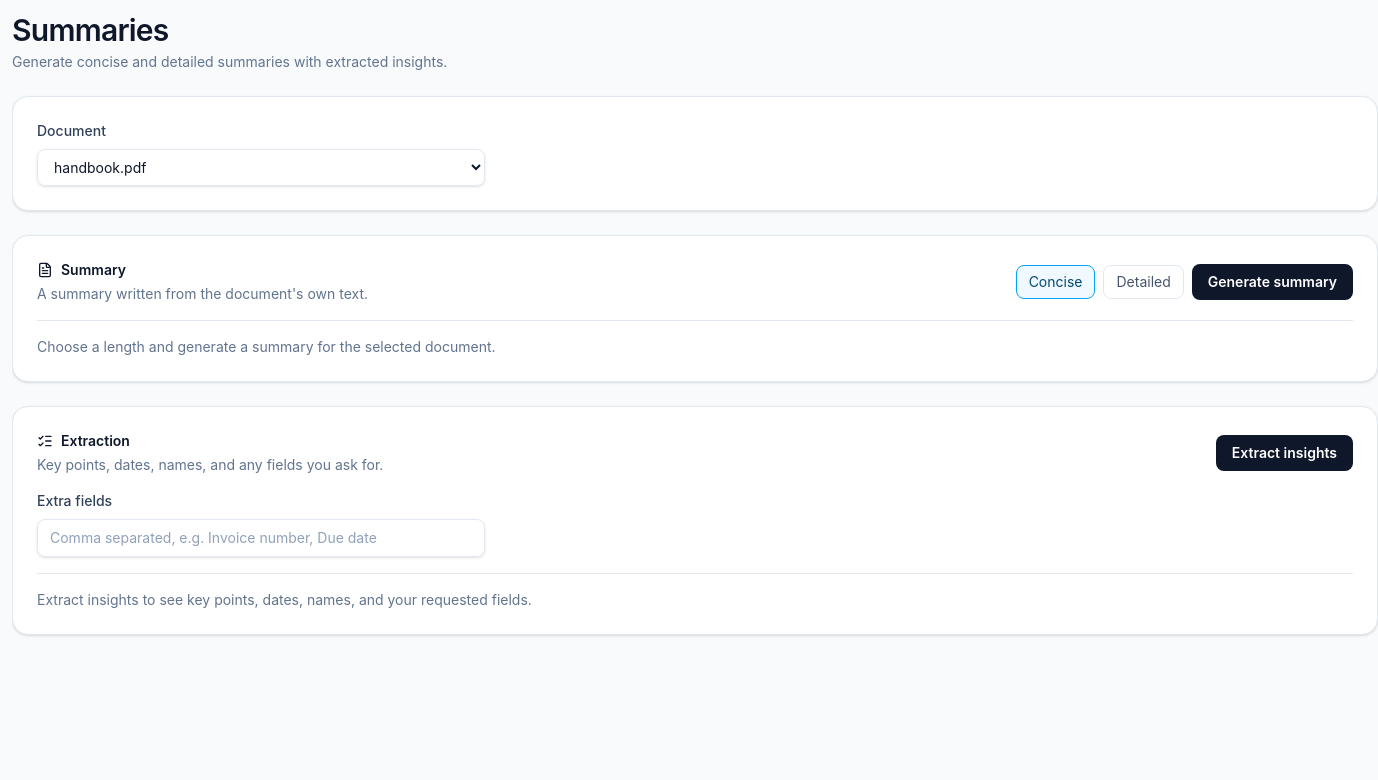
Test: SummariesPage › surfaces backend errors from a failed summary
Click the button "Generate summary". click: (1272, 282)
box: 1192,264 -> 1353,300
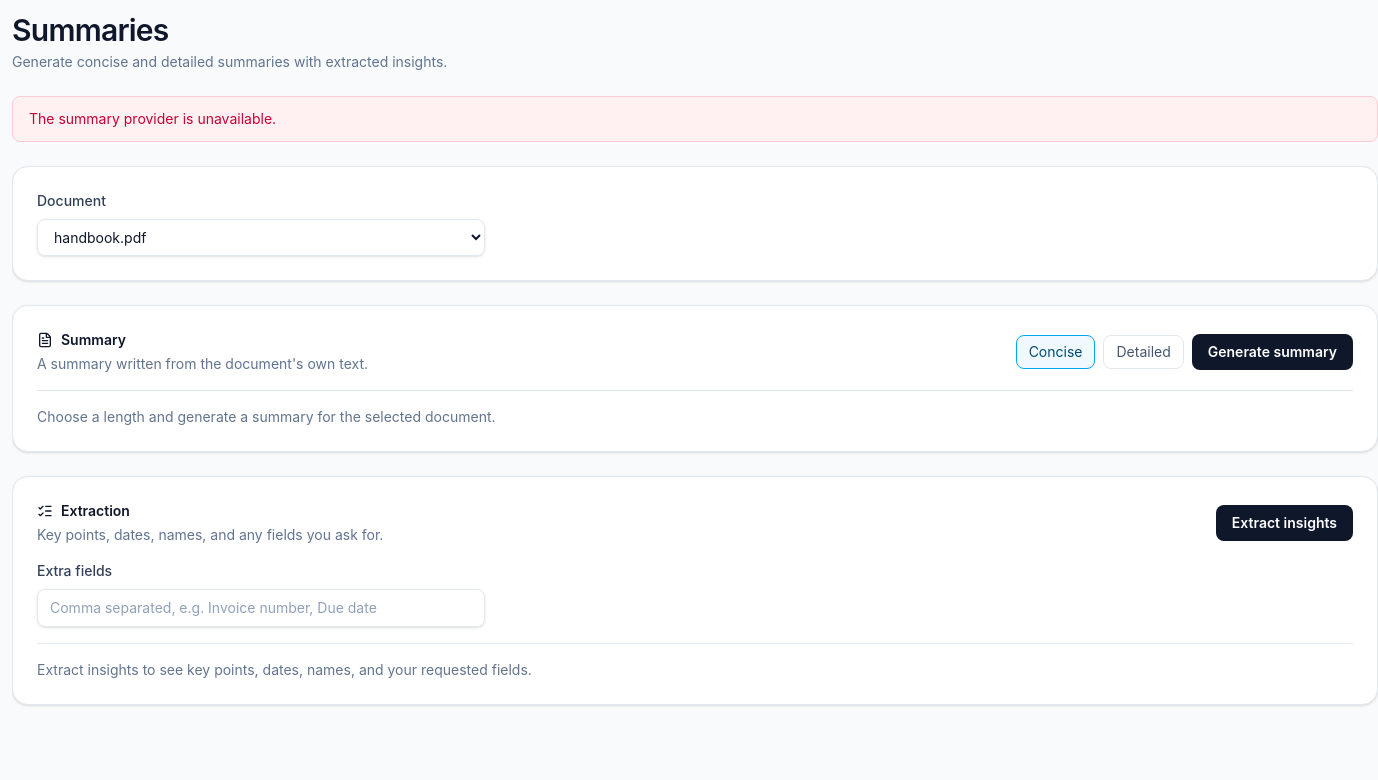
Now the message reads "The summary provider is unavailable.", box 29,110 -> 276,127
